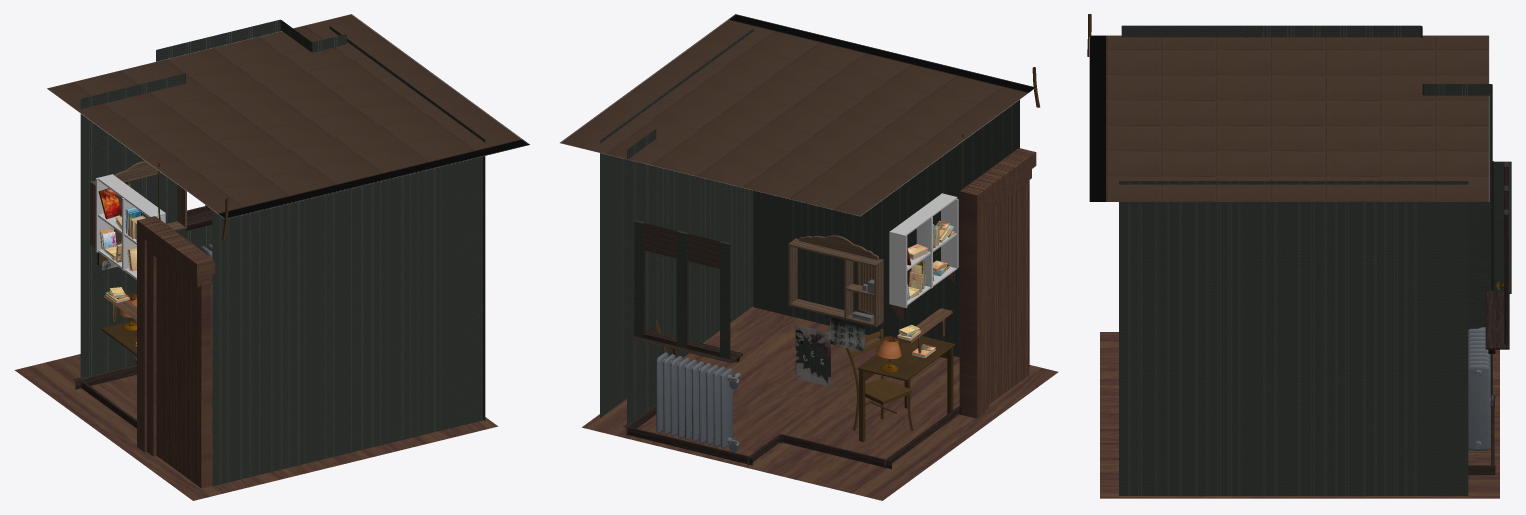
The model's file is room_password_hammer_disp_clock_disp_door.obj.
The picture shows the model from 3 angles, left to right: view 1: azimuth 30°, elevation 25°; view 2: azimuth 150°, elevation 25°; view 3: azimuth 270°, elevation 25°; orthographic projection. The views are drawn at different scales.
Visible parts, largest first — view 1: pCube1, pasted__pPlane2 pasted__diban2 group, group4 qiangbi pCube1 qiang_dianxian, men pCube89, pPlane2 diban2, men pCube85, men pCube86, pCube87 men, pCube1 group5, shujia pCube80, group4 pCube121 qiang_zhuang qiangbi, men pCube88 (+2 smaller); view 2: pasted__pPlane2 pasted__diban2 group, pPlane2 diban2, pCube1, pCube1 group5, men pCube89, group4 qiangbi pCube1 qiang_dianxian, men pCube85, pPlane3, men pCube86, pCube4 zhuozi, shujia pCube84, pCube134 chuangzi group4 (+28 smaller); view 3: pCube1 group5, pasted__pPlane2 pasted__diban2 group, group4 qiangbi pCube1 qiang_dianxian, pPlane2 diban2, group4 nuanqi pCube44, chuangzi group4 chuangtai pCube18, chuangzi group4 pCube135.
Boxes of the visible parts, x1,y1,x2,y2 form: pCube1: (212,156,482,486); pasted__pPlane2 pasted__diban2 group: (46,14,530,218); group4 qiangbi pCube1 qiang_dianxian: (80,19,346,378); men pCube89: (156,258,211,488); pPlane2 diban2: (14,326,498,500); men pCube85: (137,221,146,452); men pCube86: (137,216,215,277); pCube87 men: (147,241,156,456); pCube1 group5: (329,26,485,420); shujia pCube80: (98,174,164,217); group4 pCube121 qiang_zhuang qiangbi: (73,365,136,389); men pCube88: (148,242,212,287); pasted__pPlane2 pasted__diban2 group: (559,14,1035,216); pPlane2 diban2: (582,306,1058,500); pCube1: (753,100,1019,357); pCube1 group5: (600,28,753,417); men pCube89: (988,180,1029,404); group4 qiangbi pCube1 qiang_dianxian: (627,129,656,425); men pCube85: (959,191,984,418); pPlane3: (795,324,830,386); men pCube86: (960,148,1036,203); pCube4 zhuozi: (857,336,955,381); shujia pCube84: (889,231,907,307); pCube134 chuangzi group4: (720,241,730,359); pCube1 group5: (1119,181,1468,495); pasted__pPlane2 pasted__diban2 group: (1089,35,1489,201); group4 qiangbi pCube1 qiang_dianxian: (1121,25,1511,396); pPlane2 diban2: (1100,332,1499,498); group4 nuanqi pCube44: (1468,364,1490,451); chuangzi group4 chuangtai pCube18: (1485,290,1509,349); chuangzi group4 pCube135: (1504,209,1508,344).
Bounding box in the file's own units: 9.34 × 8.14 × 9.23.
